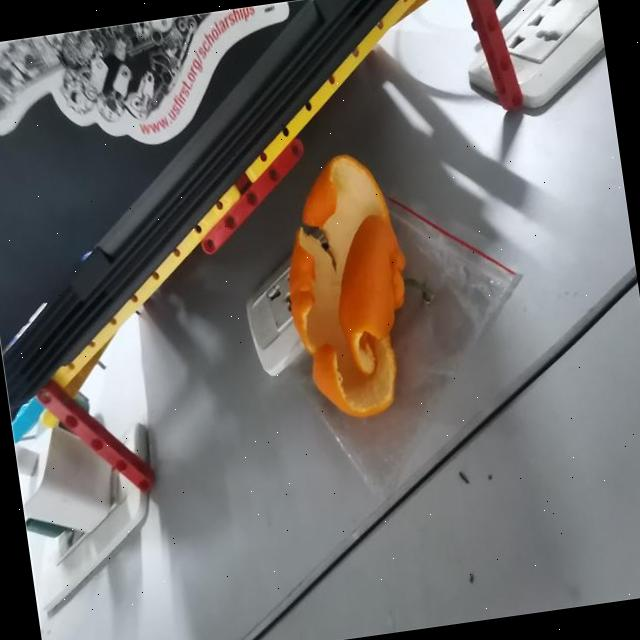orange-peel: (268, 146, 428, 426)
